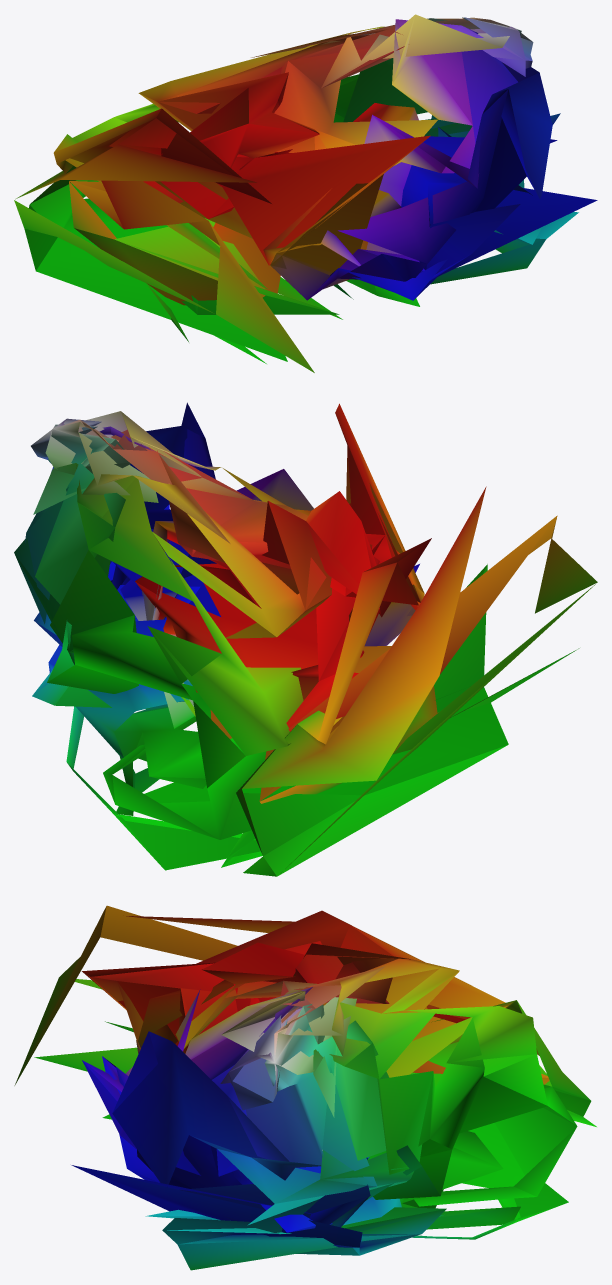
Rendered from zeometry-fragments-ruins-shard-cluster_v6.glb.
3 renders of one model, top to bottom at view 1: azimuth 30°, elevation 25°; view 2: azimuth 150°, elevation 25°; view 3: azimuth 270°, elevation 25°, orthographic. The views are drawn at different scales.
Parts seen in each view (by area): view 1: Shard Cluster_v6; view 2: Shard Cluster_v6; view 3: Shard Cluster_v6.
Part boxes in pixels (x1=…): Shard Cluster_v6: x1=14, y1=14, x2=597, y2=372; Shard Cluster_v6: x1=14, y1=402, x2=597, y2=876; Shard Cluster_v6: x1=14, y1=905, x2=596, y2=1270.
Bounding box in the file's own units: 0.4997 × 0.2757 × 0.5.
